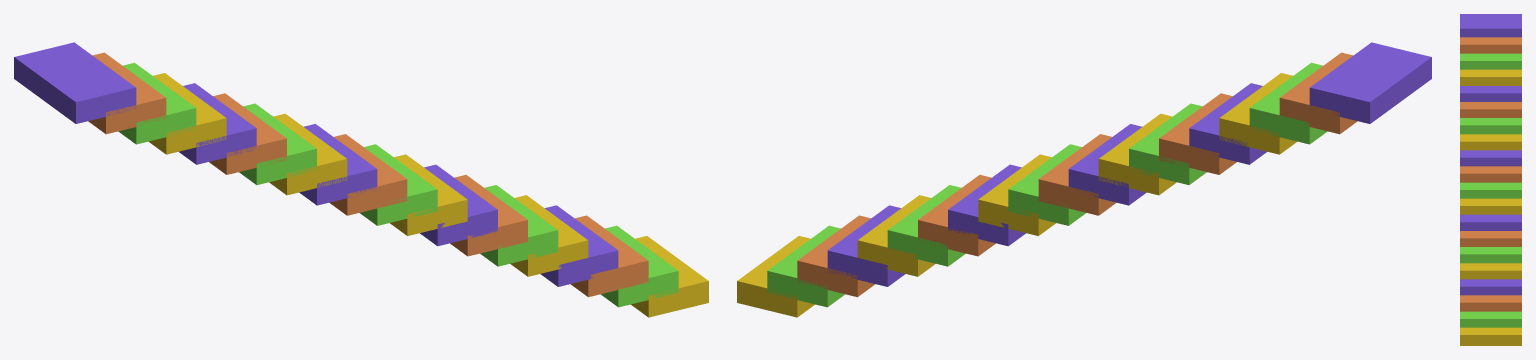
Rendered from merdiven.fbx.
3 renders of one model, left to right at view 1: azimuth 30°, elevation 25°; view 2: azimuth 150°, elevation 25°; view 3: azimuth 270°, elevation 25°, orthographic. The views are drawn at different scales.
Parts seen in each view (by area): view 1: Plane.020, Plane.011, Plane.003, Plane.017, Plane.001, Plane.013, Plane.016, Plane.014, Plane.009, Plane.018, Plane.015, Plane.019 (+8 smaller); view 2: Plane.020, Plane.011, Plane.017, Plane.013, Plane.002, Plane.003, Plane.001, Plane.004, Plane.018, Plane.015, Plane.014, Plane.009 (+8 smaller); view 3: Plane.020, Plane.001, Plane.002, Plane.003, Plane.004, Plane.005, Plane.006, Plane.008, Plane.009, Plane.010, Plane.011, Plane.012 (+8 smaller).
Part boxes in pixels (left/top/right/bottom): Plane.020: left=14, top=42, right=136, bottom=123; Plane.011: left=329, top=134, right=407, bottom=215; Plane.003: left=570, top=215, right=648, bottom=297; Plane.017: left=148, top=73, right=226, bottom=154; Plane.001: left=631, top=236, right=708, bottom=317; Plane.013: left=269, top=113, right=347, bottom=195; Plane.016: left=179, top=83, right=256, bottom=164; Plane.014: left=239, top=103, right=316, bottom=184; Plane.009: left=390, top=154, right=467, bottom=235; Plane.018: left=118, top=62, right=196, bottom=144; Plane.015: left=209, top=93, right=286, bottom=174; Plane.019: left=88, top=52, right=166, bottom=134; Plane.020: left=1309, top=42, right=1431, bottom=123; Plane.011: left=1038, top=134, right=1116, bottom=215; Plane.017: left=1219, top=73, right=1297, bottom=154; Plane.013: left=1098, top=113, right=1176, bottom=195; Plane.002: left=767, top=225, right=844, bottom=307; Plane.003: left=797, top=215, right=875, bottom=297; Plane.001: left=737, top=236, right=814, bottom=317; Plane.004: left=827, top=205, right=905, bottom=286; Plane.018: left=1249, top=62, right=1327, bottom=144; Plane.015: left=1159, top=93, right=1236, bottom=174; Plane.014: left=1129, top=103, right=1206, bottom=184; Plane.009: left=978, top=154, right=1055, bottom=235; Plane.020: left=1460, top=14, right=1521, bottom=37; Plane.001: left=1460, top=327, right=1521, bottom=345; Plane.002: left=1460, top=311, right=1521, bottom=327; Plane.003: left=1460, top=295, right=1521, bottom=311; Plane.004: left=1460, top=279, right=1521, bottom=295; Plane.005: left=1460, top=263, right=1521, bottom=279; Plane.006: left=1460, top=247, right=1521, bottom=263; Plane.008: left=1460, top=214, right=1521, bottom=230; Plane.009: left=1460, top=198, right=1521, bottom=214; Plane.010: left=1460, top=182, right=1521, bottom=198; Plane.011: left=1460, top=166, right=1521, bottom=182; Plane.012: left=1460, top=150, right=1521, bottom=166.
Size of the model in its own units: 355 by 1126 by 2100.
